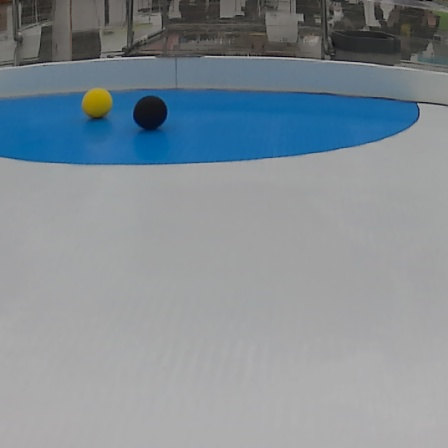black: (134, 95, 171, 129)
blue_base: (0, 89, 424, 167)
yellow: (84, 88, 111, 117)
